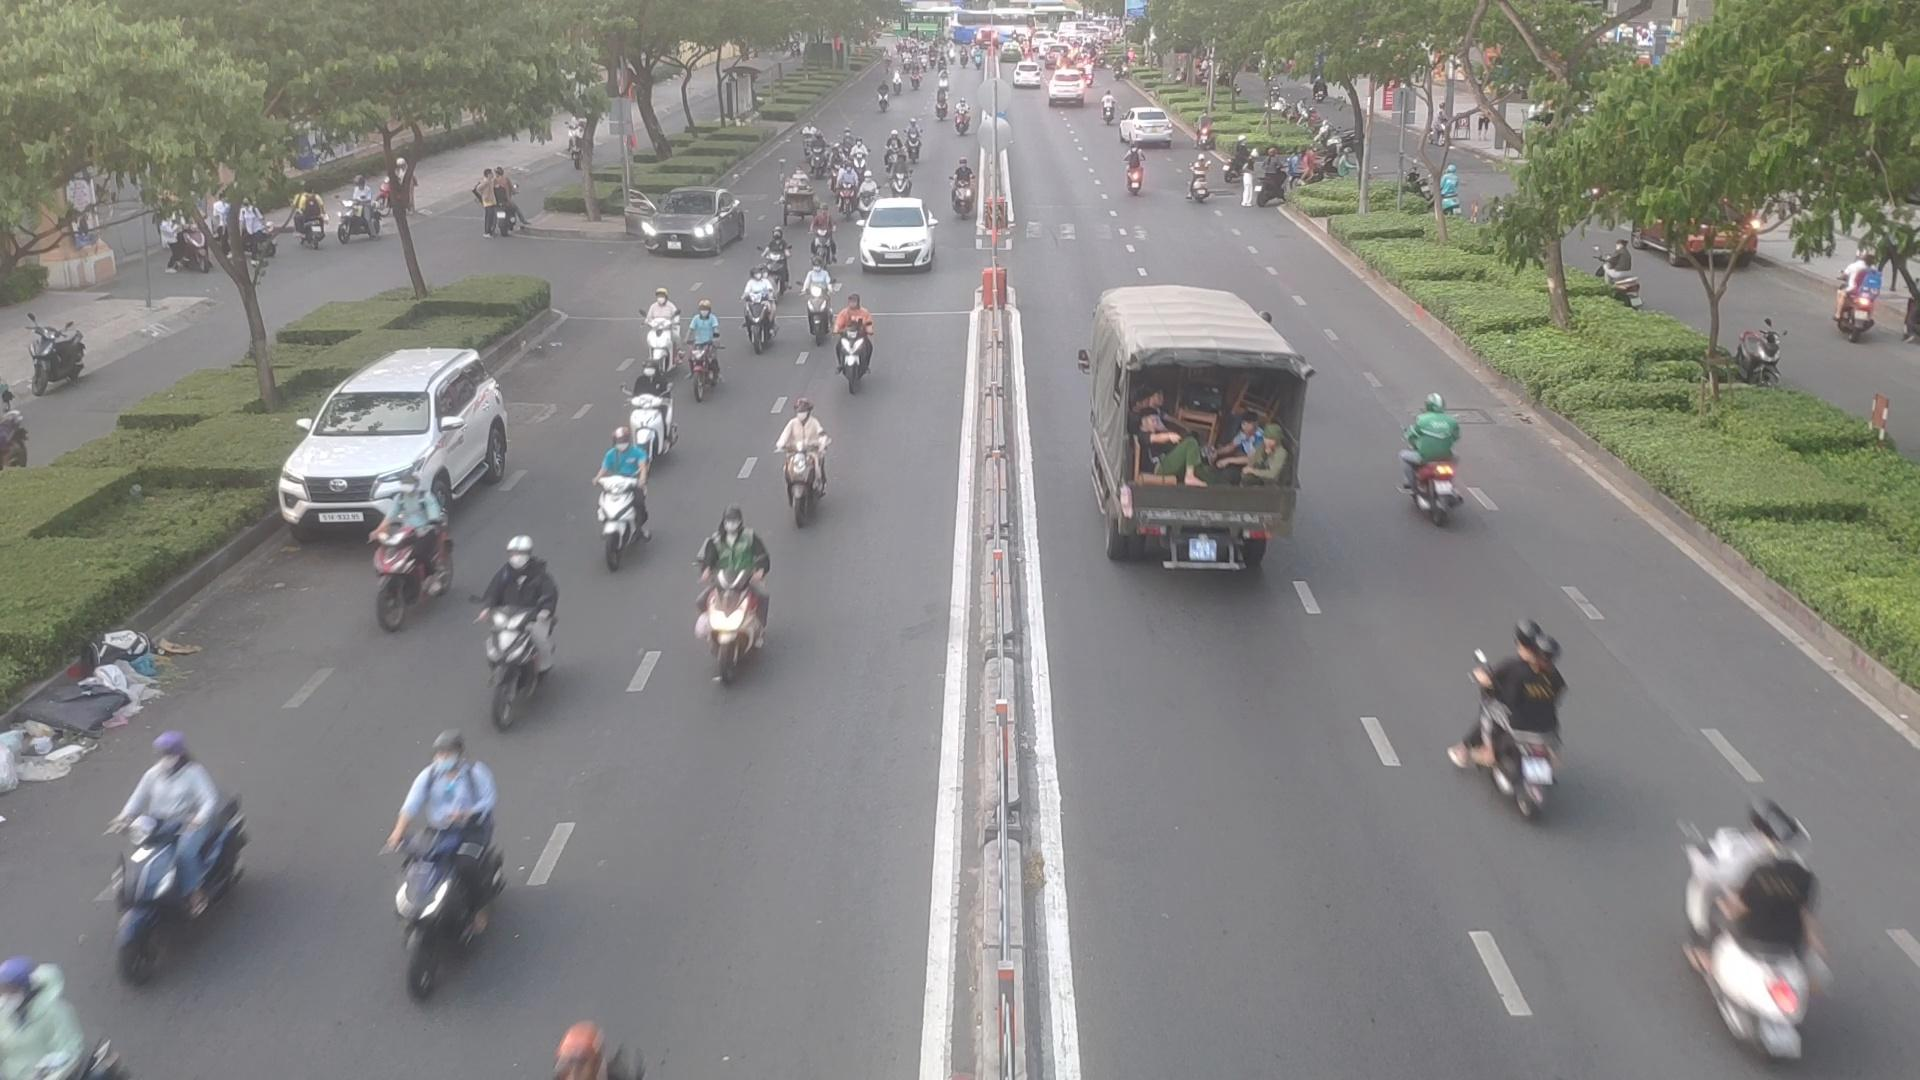car: (1072, 295, 1332, 593), (280, 351, 512, 543), (858, 199, 939, 270)
motorbike: (1668, 803, 1815, 1054), (108, 742, 245, 971), (393, 731, 489, 976), (1470, 616, 1555, 816), (688, 513, 773, 709), (485, 533, 564, 717), (373, 483, 448, 654), (1396, 394, 1465, 516), (771, 404, 829, 529), (831, 291, 889, 400), (596, 443, 645, 564), (626, 373, 679, 473), (688, 293, 731, 404), (633, 291, 676, 377), (738, 269, 775, 349), (760, 223, 793, 295), (1118, 140, 1153, 200), (949, 161, 978, 225), (807, 260, 833, 328), (1226, 138, 1255, 183), (1183, 150, 1207, 204), (889, 153, 914, 202), (810, 210, 829, 261), (839, 164, 856, 216), (858, 171, 876, 218), (798, 119, 815, 160), (882, 131, 899, 164), (905, 117, 916, 164), (828, 145, 840, 187), (811, 136, 824, 173), (853, 140, 865, 181)
